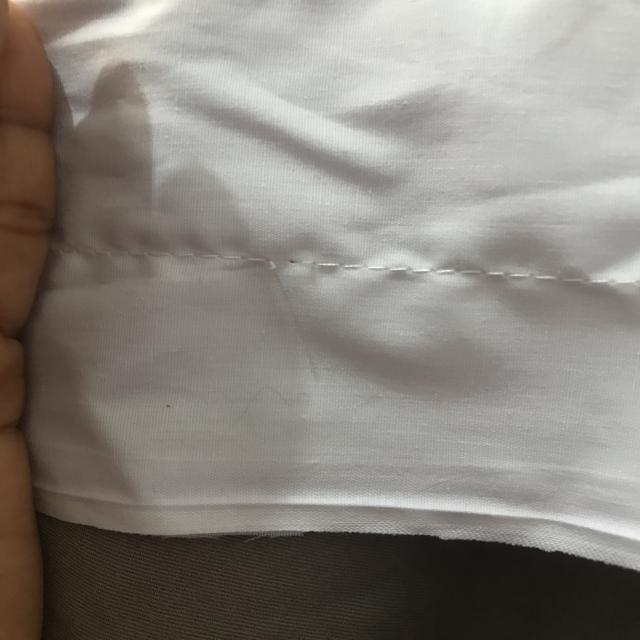broken: (249, 246, 332, 278)
good: (364, 256, 562, 287)
